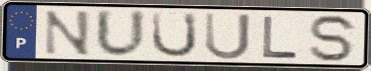L: (261, 15, 300, 60)
N: (42, 9, 92, 57)
S: (307, 13, 360, 64)
U: (94, 7, 149, 60), (203, 11, 253, 62), (149, 10, 199, 59)
